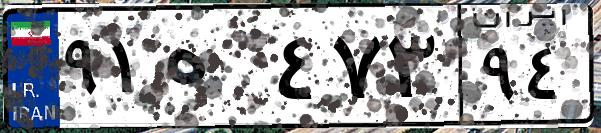1: (110, 28, 158, 98)
3: (385, 28, 445, 110)
4: (270, 28, 330, 110), (525, 38, 570, 115)
7: (330, 28, 385, 110)
9: (57, 26, 110, 100), (475, 38, 525, 113)
ه: (158, 20, 270, 120)
